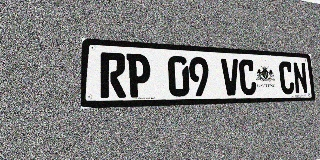0: (167, 56, 190, 97)
9: (189, 57, 210, 96)
C: (238, 59, 257, 95), (278, 61, 295, 94)
N: (292, 62, 308, 94)
P: (126, 53, 151, 98)
R: (100, 52, 126, 98)
V: (221, 58, 240, 96)
